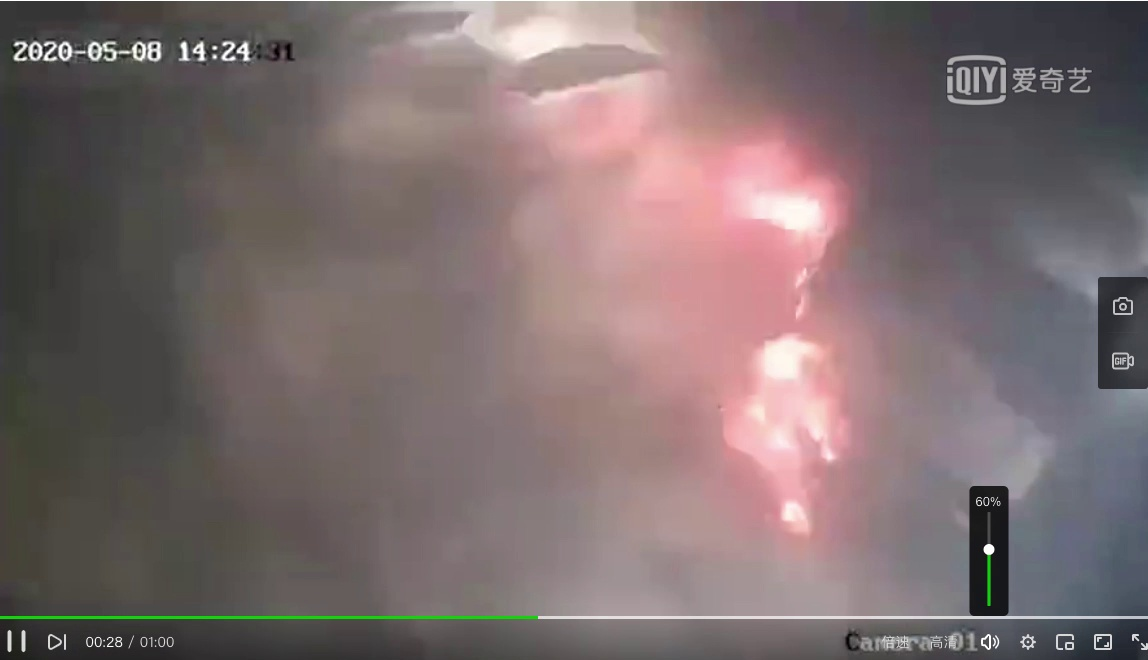fire: (722, 246, 873, 543)
